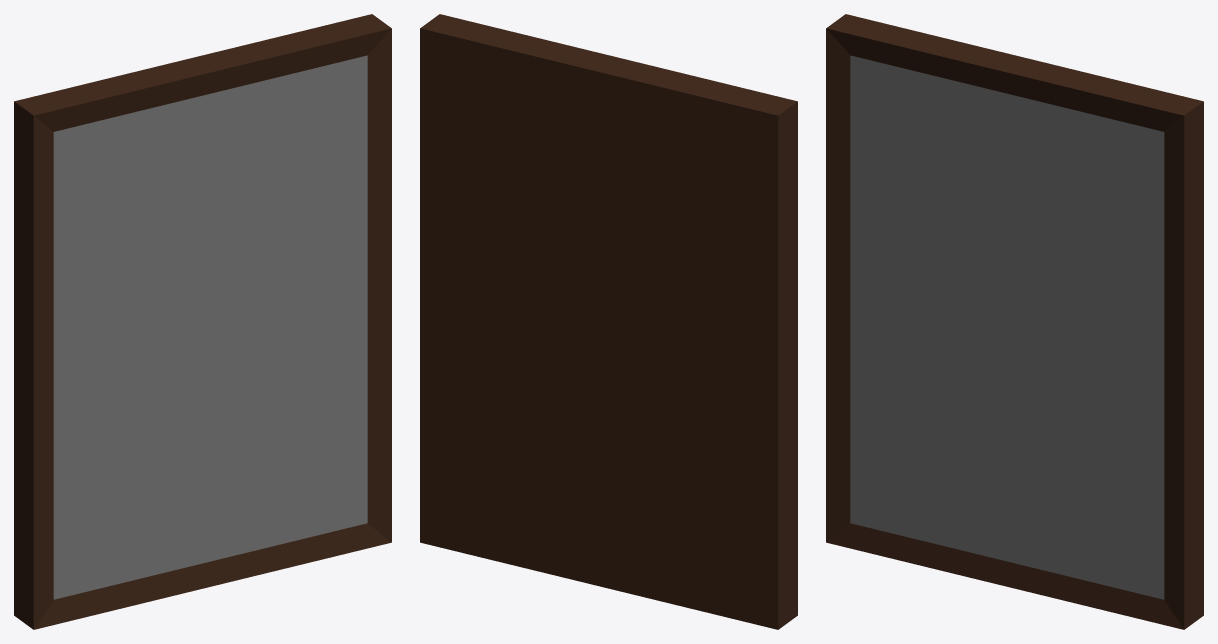
Rendered from Pciture Frame.fbx.
The picture shows the model from 3 angles, left to right: view 1: azimuth 30°, elevation 25°; view 2: azimuth 150°, elevation 25°; view 3: azimuth 330°, elevation 25°; orthographic projection.
Visible parts, largest first — view 1: Frame; view 2: Frame; view 3: Frame.
Boxes of the visible parts, x1=… form: Frame: x1=14, y1=14, x2=391, y2=629; Frame: x1=420, y1=14, x2=797, y2=629; Frame: x1=826, y1=14, x2=1203, y2=629.
Size of the model in its own units: 23.89 by 32.78 by 2.27.
